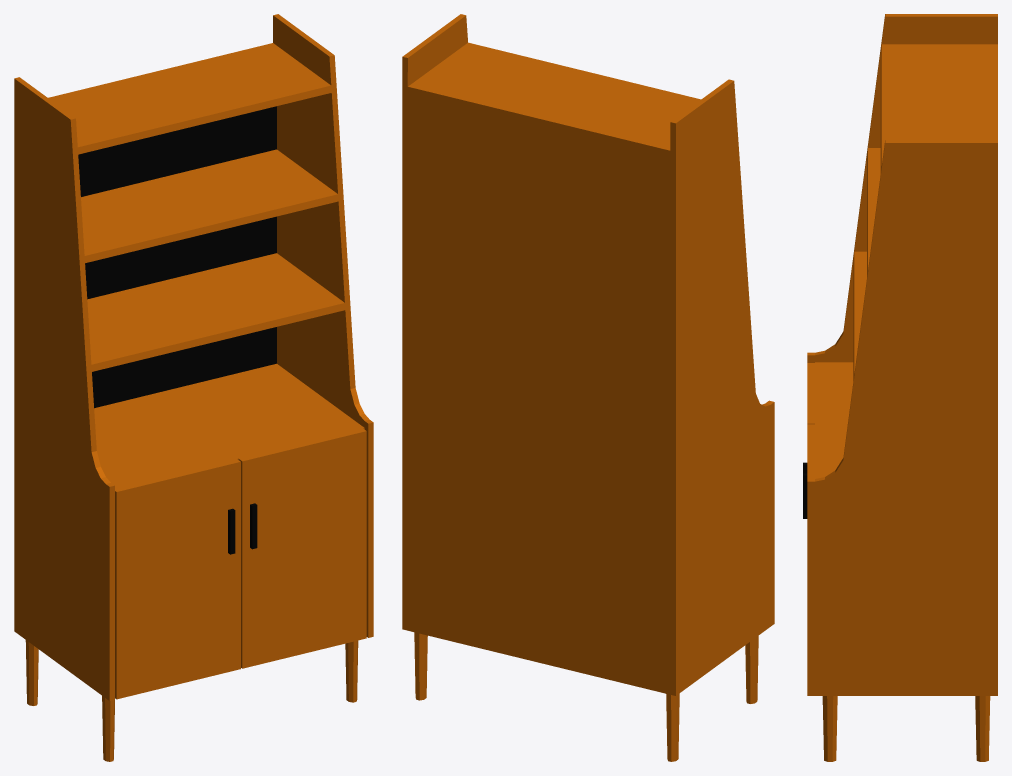
The model's file is 70sCabinet.fbx.
3 renders of one model, left to right at view 1: azimuth 30°, elevation 25°; view 2: azimuth 150°, elevation 25°; view 3: azimuth 270°, elevation 25°, orthographic. The views are drawn at different scales.
Visible parts, largest first — view 1: Cabinet, CabinetDoorsR, CabinetDoorsL; view 2: Cabinet; view 3: Cabinet, CabinetDoorsR, CabinetDoorsL.
Part boxes in pixels (x1=…): Cabinet: x1=14, y1=14, x2=373, y2=761; CabinetDoorsR: x1=238, y1=428, x2=366, y2=668; CabinetDoorsL: x1=115, y1=459, x2=240, y2=699; Cabinet: x1=402, y1=14, x2=774, y2=761; Cabinet: x1=807, y1=14, x2=997, y2=761; CabinetDoorsR: x1=803, y1=424, x2=814, y2=518; CabinetDoorsL: x1=803, y1=363, x2=814, y2=473.
Bounding box in the file's own units: 79.96 × 180 × 51.12.
